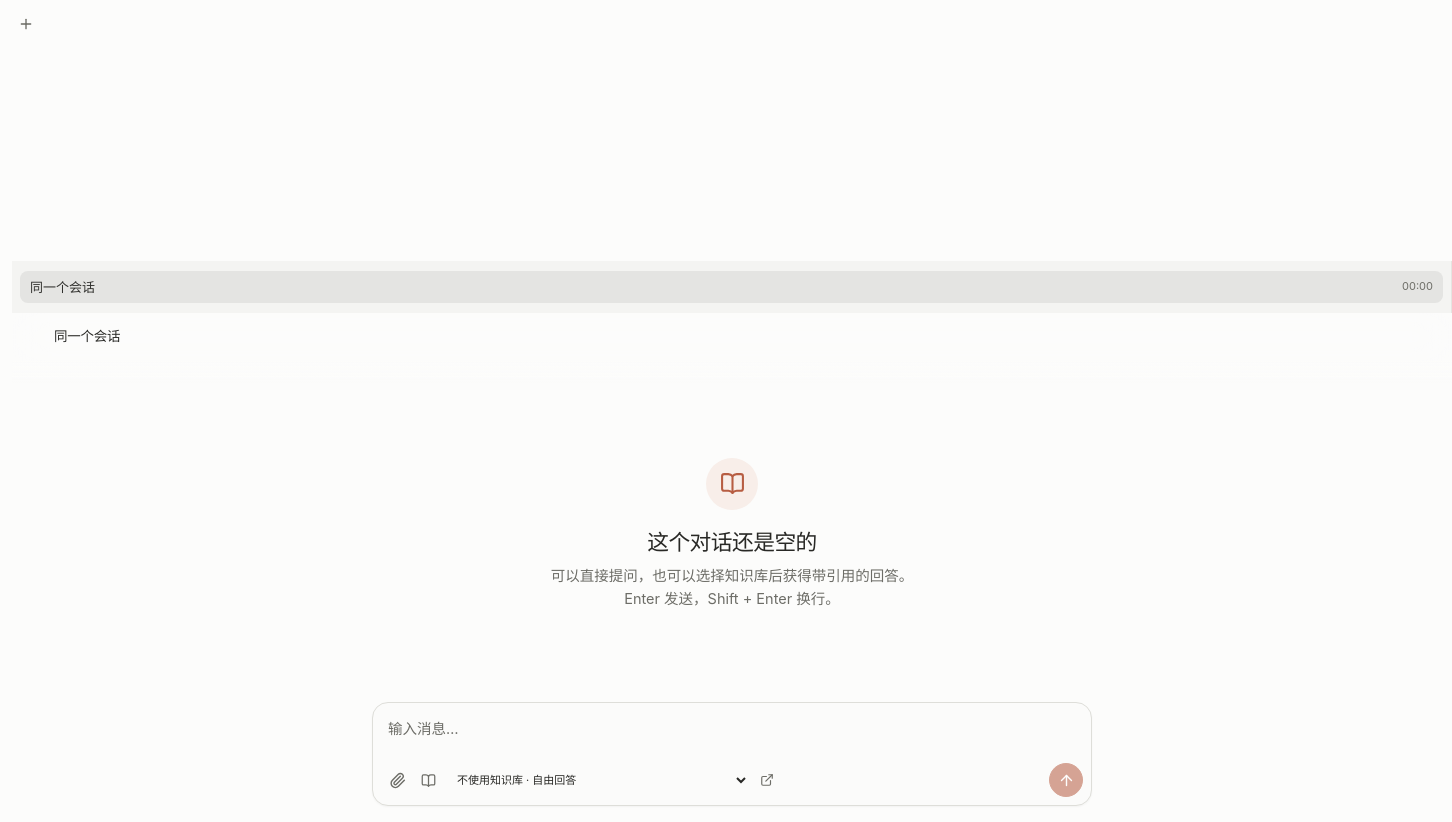
Test: Chat identity boundary › shows a source only when this turn actually uses one
Expected: the text "校招资料" is not shown
Select "校招资料 · 2/2 可用" in the dropdown named "回答资料". click: x=597, y=780
box: [445,764,749,796]
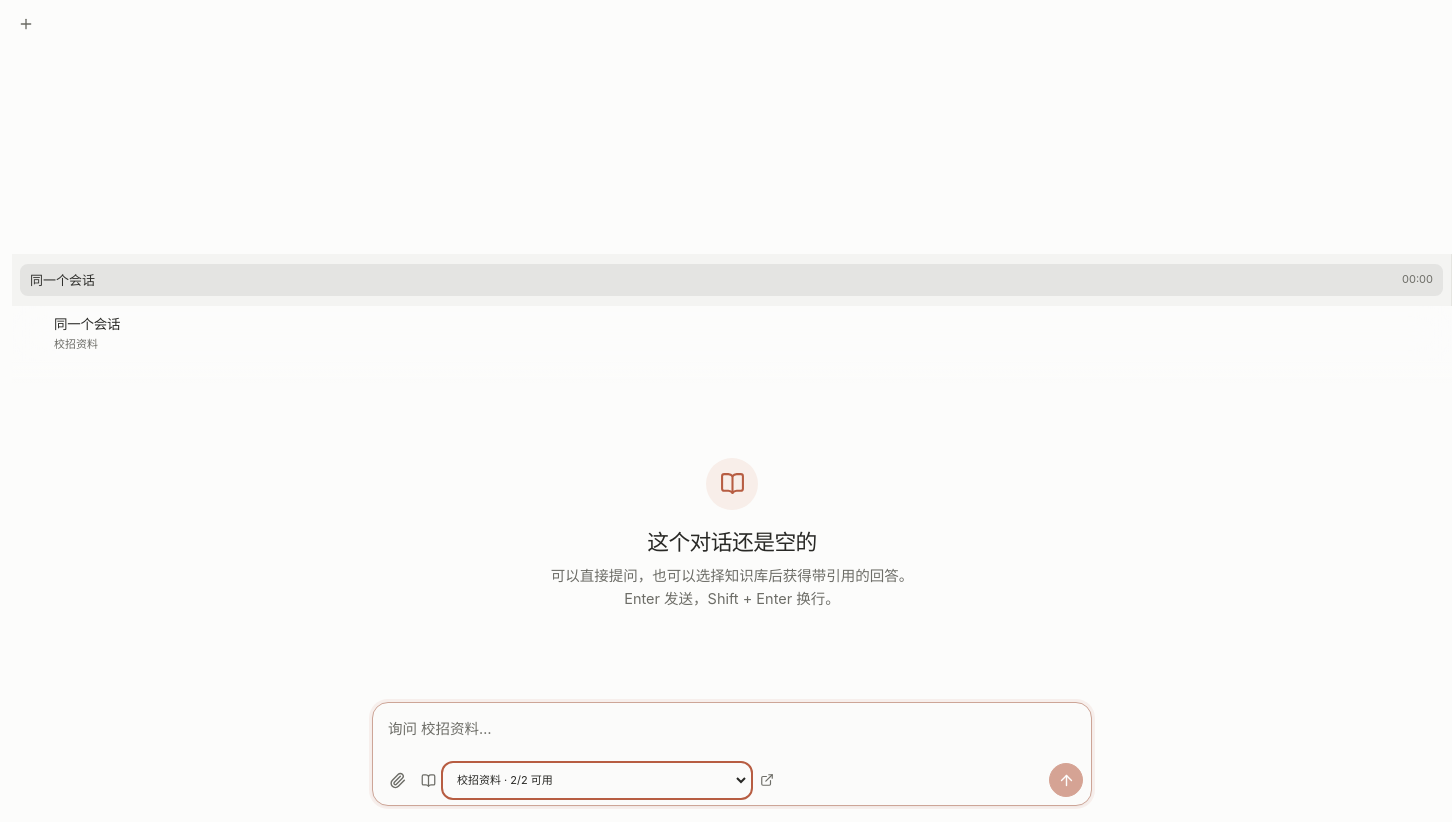
Now the text "校招资料" is shown, box [54,337,98,351]
